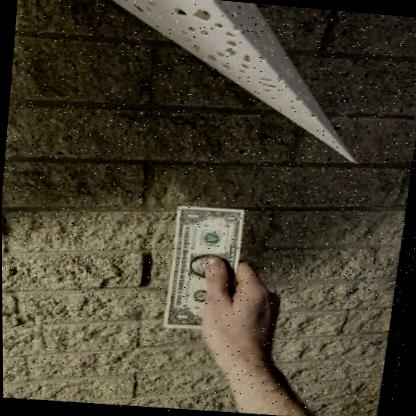one-front: (162, 204, 249, 336)
